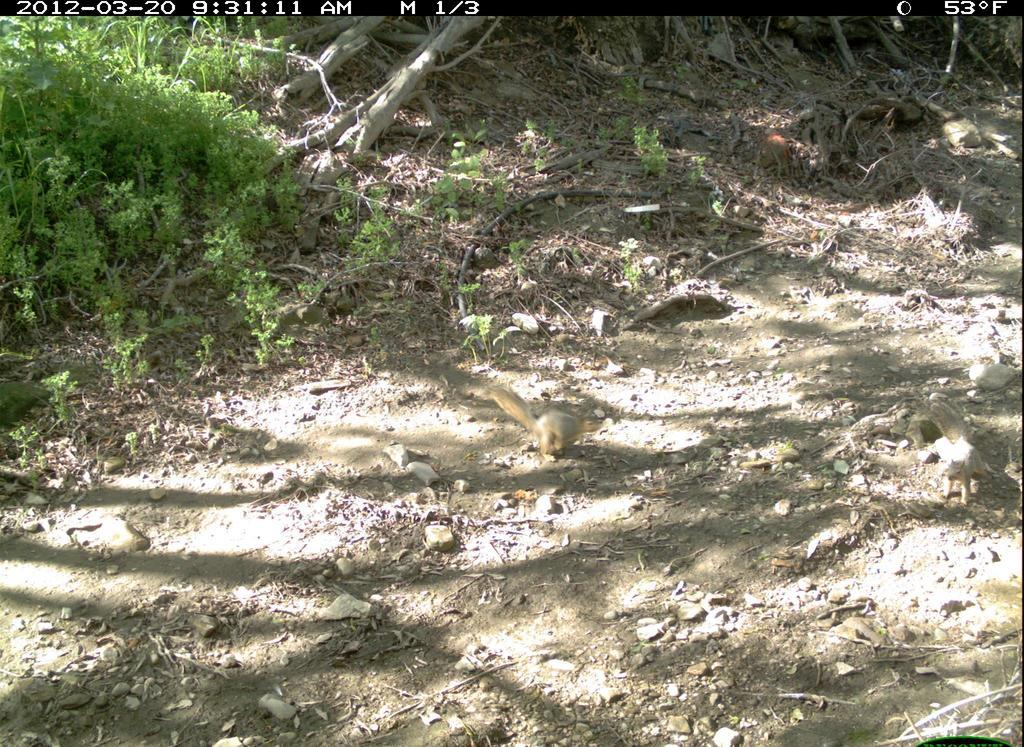squirrel: (466, 359, 611, 497)
